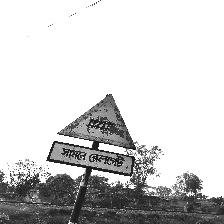Rail-crossing: (49, 93, 138, 177)
